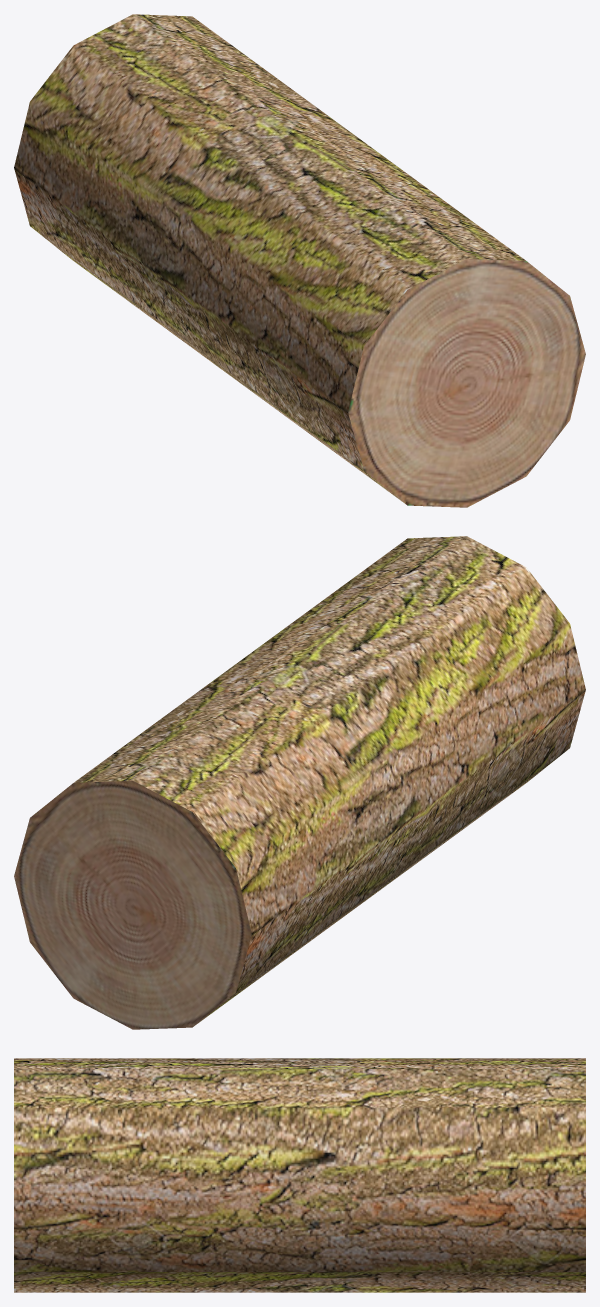
Rendered from Tree1.FBX.
3 renders of one model, top to bottom at view 1: azimuth 30°, elevation 25°; view 2: azimuth 150°, elevation 25°; view 3: azimuth 270°, elevation 25°, orthographic. The views are drawn at different scales.
Parts seen in each view (by area): view 1: Cylinder001; view 2: Cylinder001; view 3: Cylinder001.
Part boxes in pixels (bbox=[...]): Cylinder001: bbox=[14, 14, 585, 507]; Cylinder001: bbox=[14, 536, 585, 1029]; Cylinder001: bbox=[14, 1058, 585, 1292].
Bounding box in the file's own units: 33.7 × 81.94 × 33.7.
Materials: 1 (1 with a texture image).
